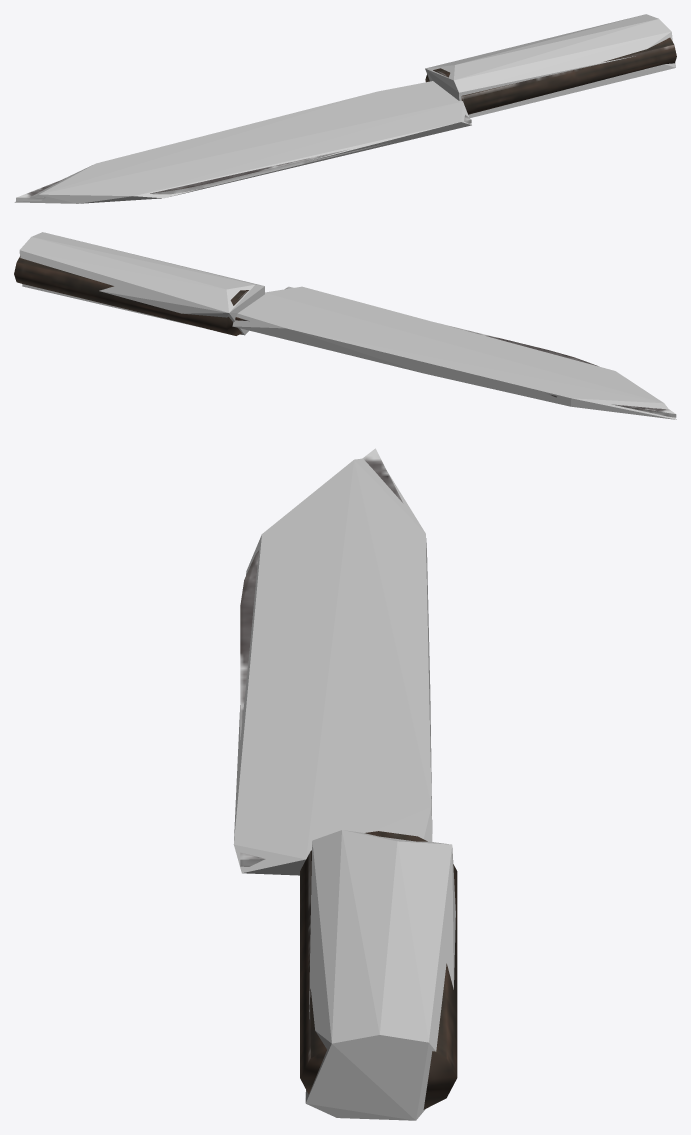
Rendered from SM_Knife.fbx.
The picture shows the model from 3 angles, top to bottom: view 1: azimuth 30°, elevation 25°; view 2: azimuth 150°, elevation 25°; view 3: azimuth 270°, elevation 25°; orthographic projection. The views are drawn at different scales.
Parts seen in each view (by area): view 1: SM_Knife_ConvexHulls, SM_Knife; view 2: SM_Knife_ConvexHulls, SM_Knife; view 3: SM_Knife_ConvexHulls, SM_Knife.
Boxes of the visible parts, x1,y1,x2,y2 form: SM_Knife_ConvexHulls: (14, 14, 675, 203); SM_Knife: (16, 37, 676, 201); SM_Knife_ConvexHulls: (19, 232, 676, 419); SM_Knife: (14, 256, 676, 417); SM_Knife_ConvexHulls: (233, 458, 455, 1120); SM_Knife: (240, 448, 457, 1109).
Bounding box in the file's own units: 49.54 × 7.42 × 3.31.
2 materials, 1 textured.
